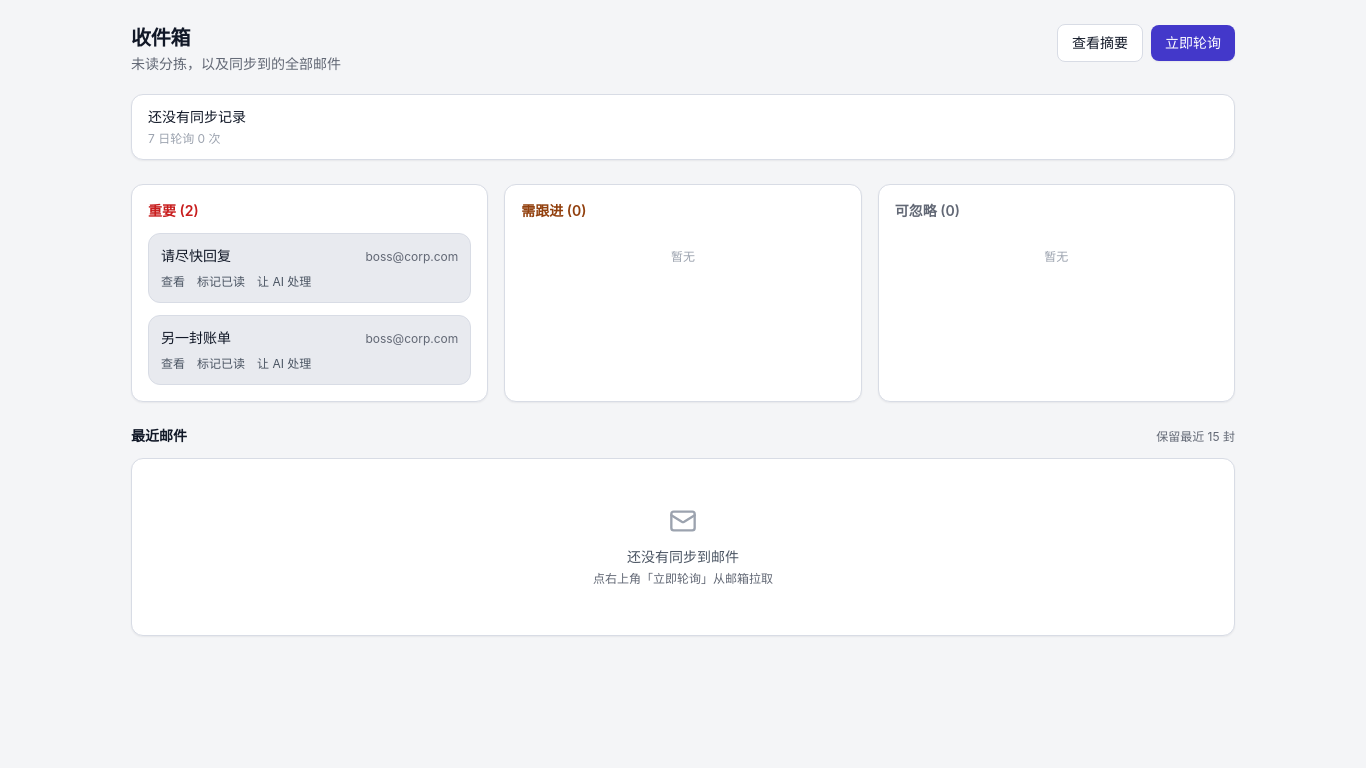
Scenario: InboxPage › drops the previous mail's open failure when another mail is opened
Click the button "查看" below "请尽快回复" at (173, 282), box [161,274,185,290]
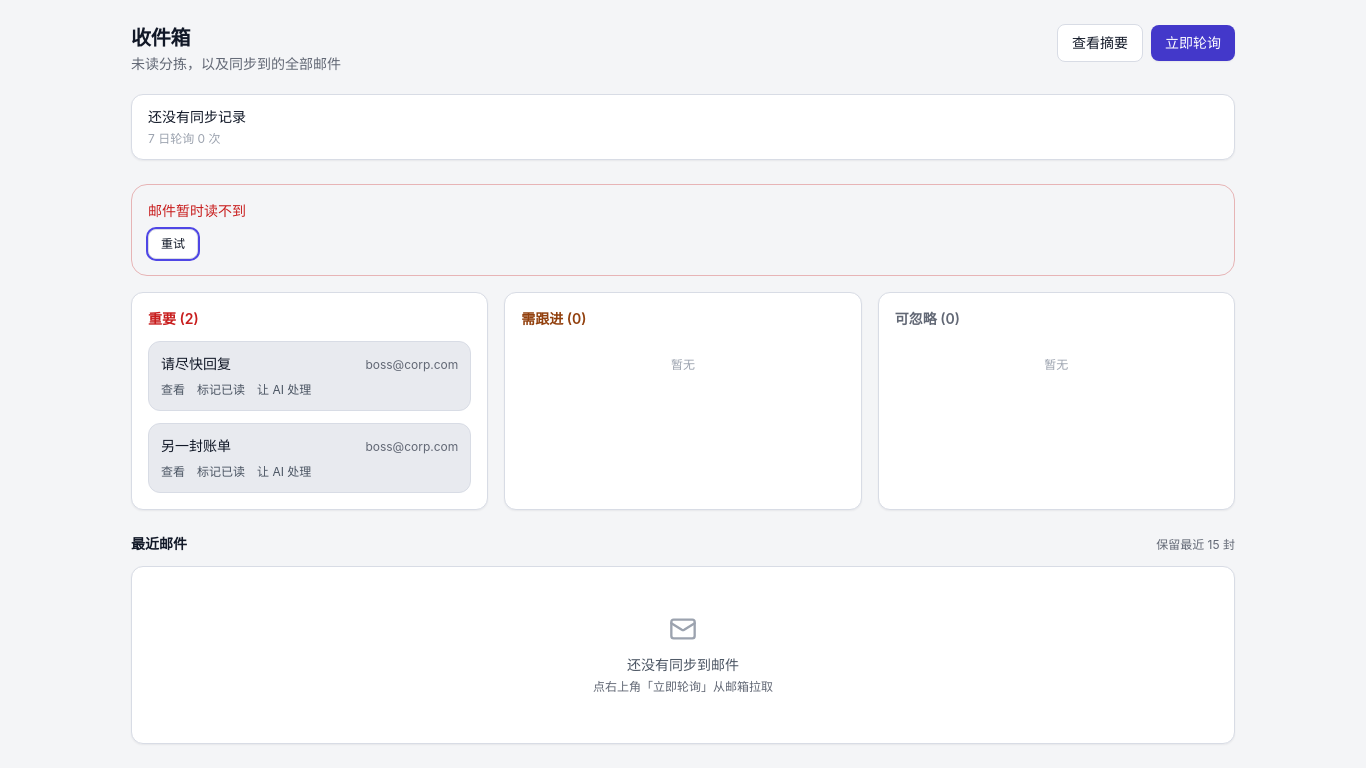
Expected: the message with test id "inbox-detail-load-error" shows "邮件暂时读不到", [148,202,246,219]
Click the button "查看" below "另一封账单" at (173, 472), box [161,464,185,480]
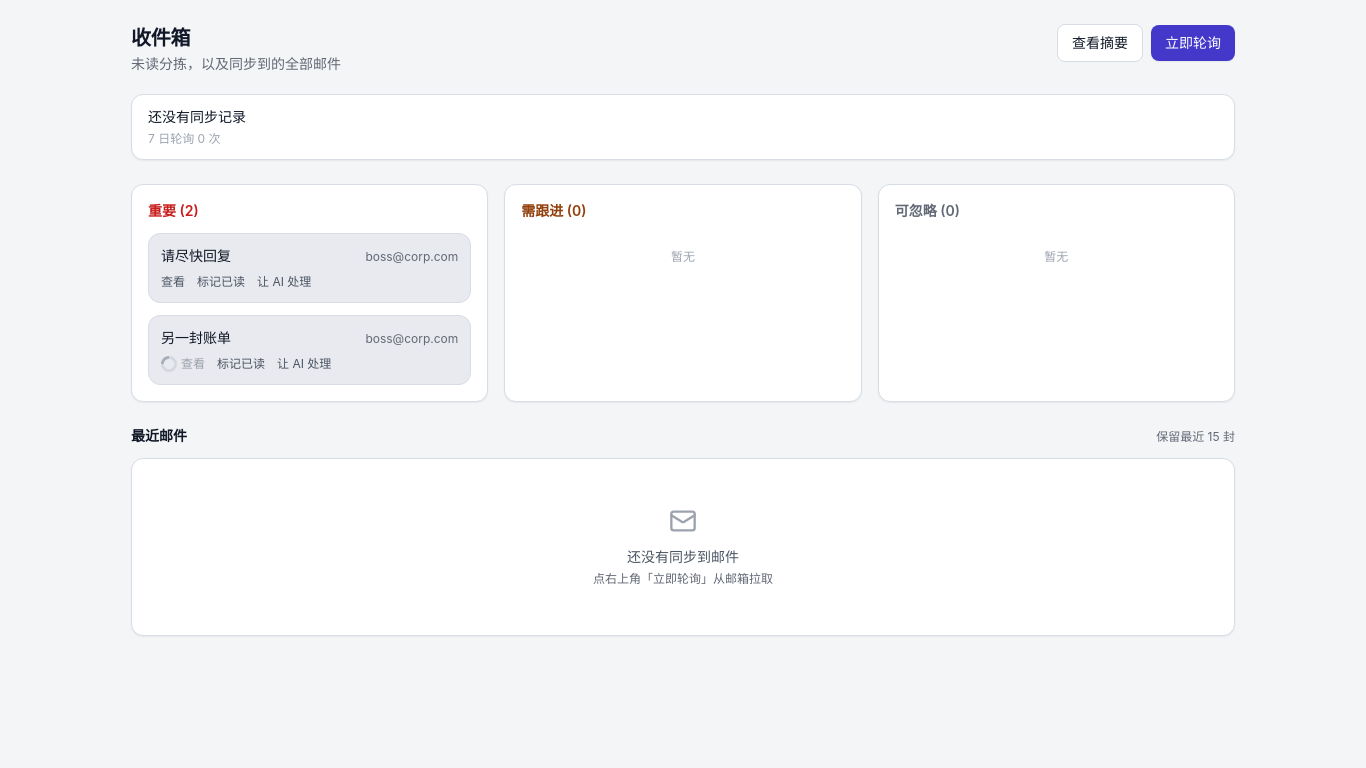
Expected: the text "请尽快回复" is shown, [161,247,231,264]
Expected: the text "邮件暂时读不到" is gone
Expected: the message with test id "inbox-detail-load-error" is gone
